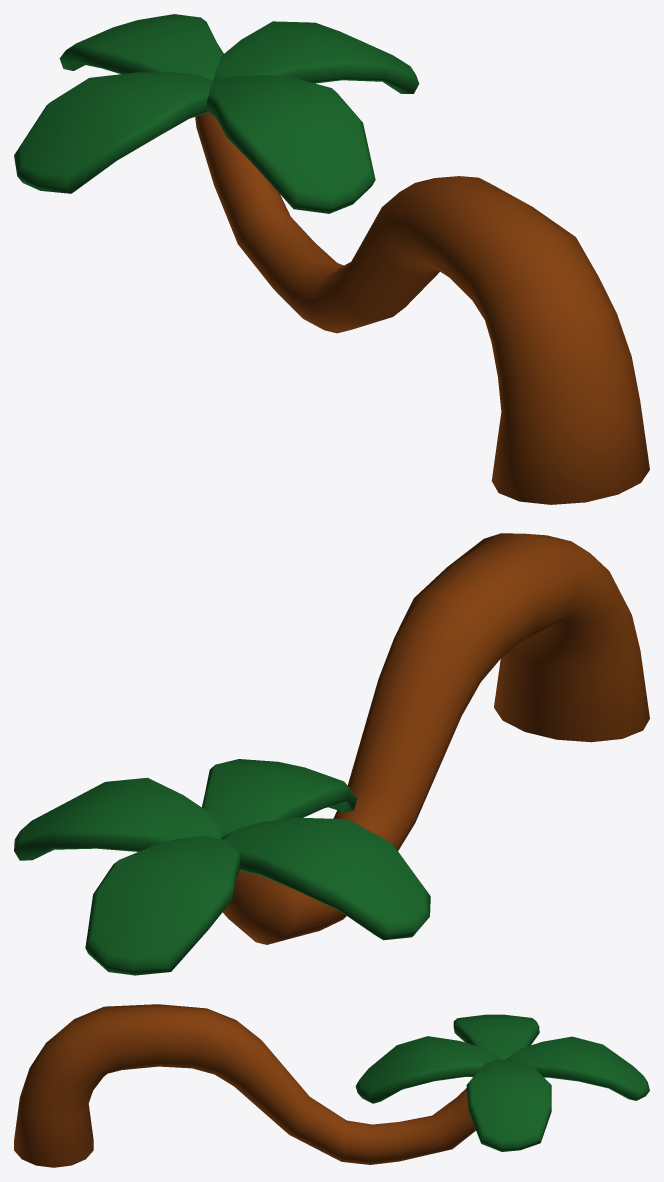
File: TreePalmBig.fbx
The picture shows the model from 3 angles, top to bottom: view 1: azimuth 30°, elevation 25°; view 2: azimuth 150°, elevation 25°; view 3: azimuth 270°, elevation 25°; orthographic projection. The views are drawn at different scales.
Visible parts, largest first — view 1: polySurface2; view 2: polySurface2; view 3: polySurface2.
Part boxes in pixels (x1,y1,x2,y2): polySurface2: [14, 14, 649, 504]; polySurface2: [14, 533, 649, 975]; polySurface2: [14, 1004, 649, 1167].
Size of the model in its own units: 8.3 by 4.78 by 18.12.
1 material, 1 textured.
